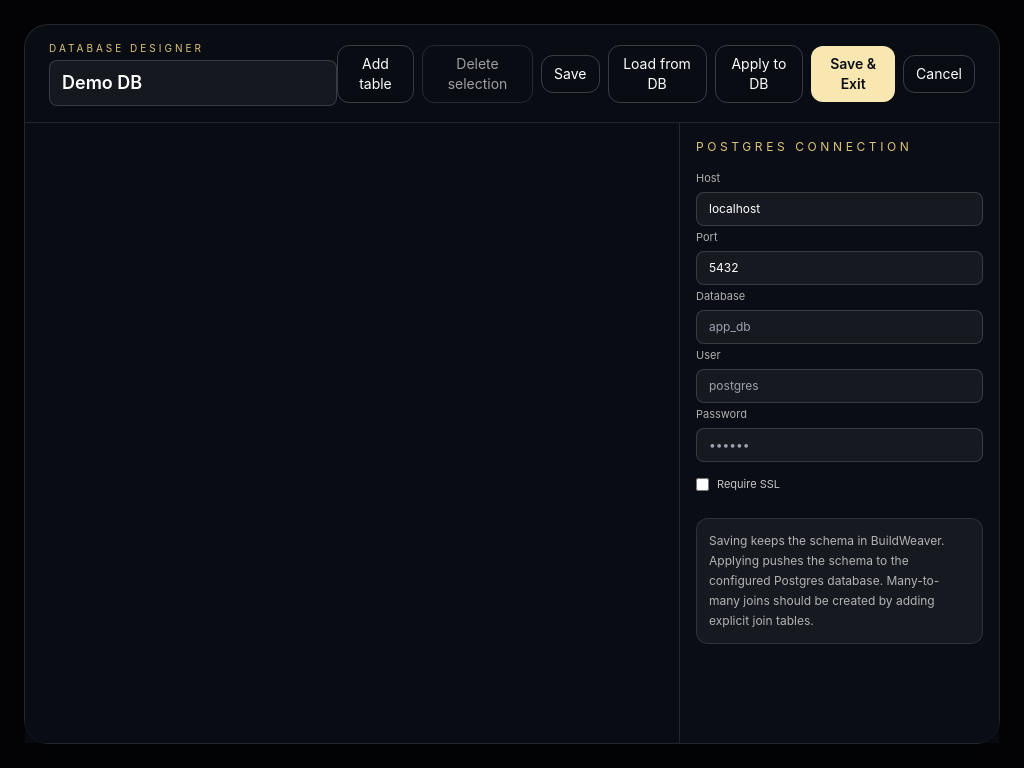
Test: DatabaseDesignerModal › surfaces apply errors to the user
Click the button "Apply to DB" at (759, 74), box [714,44,803,102]
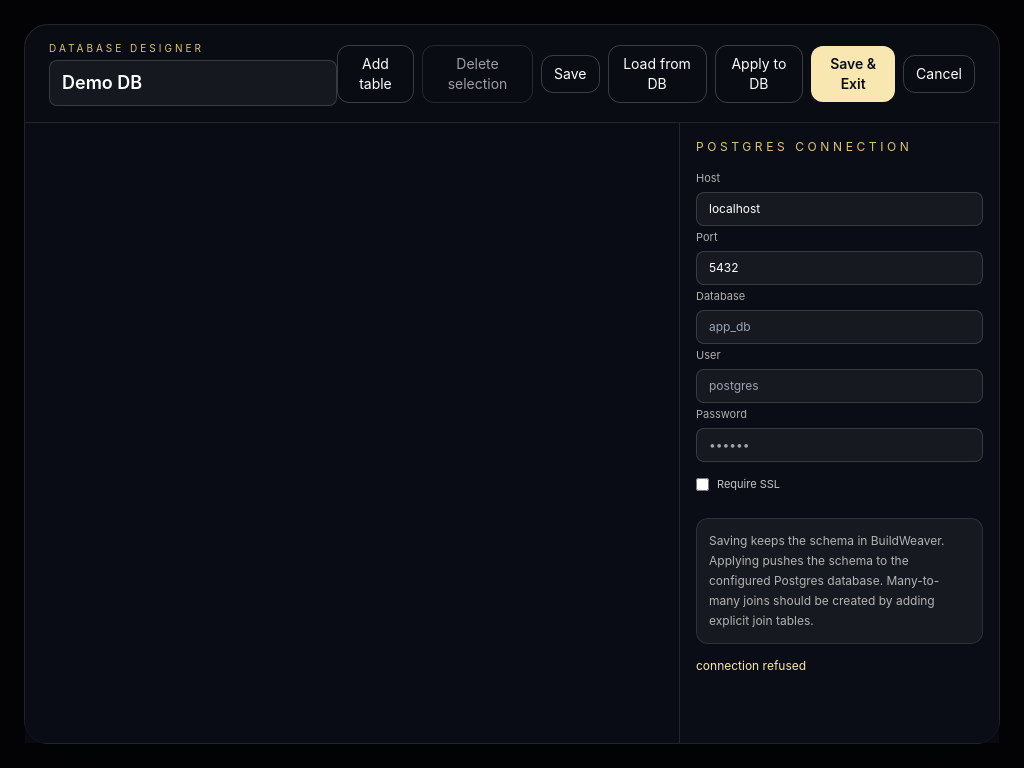
Expected: the text "connection refused" is shown, [696,658,806,673]
